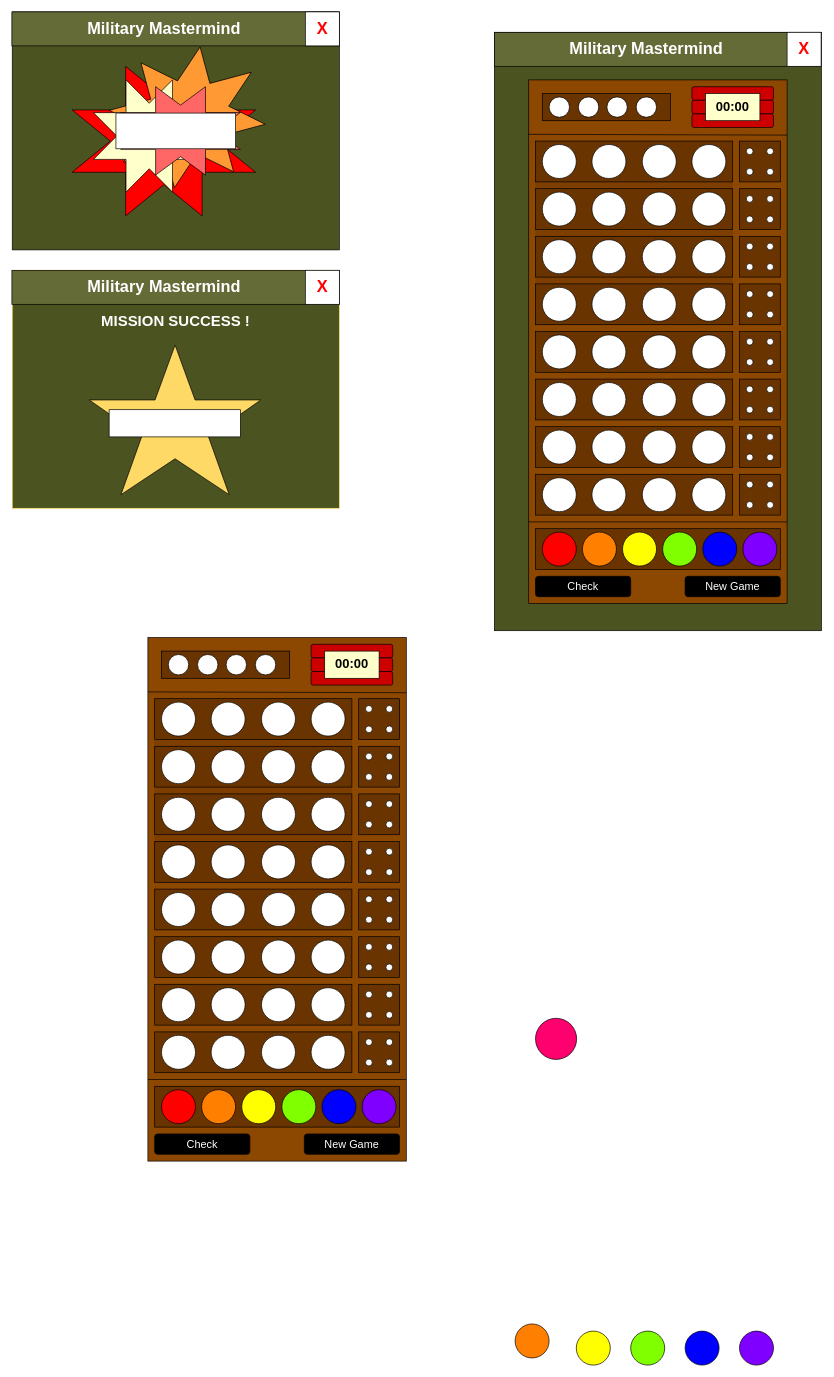
The diagram is 834 pixels wide and 1377 high, and some of its shapes have lost their labels. The centre of each missing label's shape, as x and y in pixels:
"BOMB DEFUSED" belongs at [174,423].
"GAME OVER !" belongs at [175,130].
